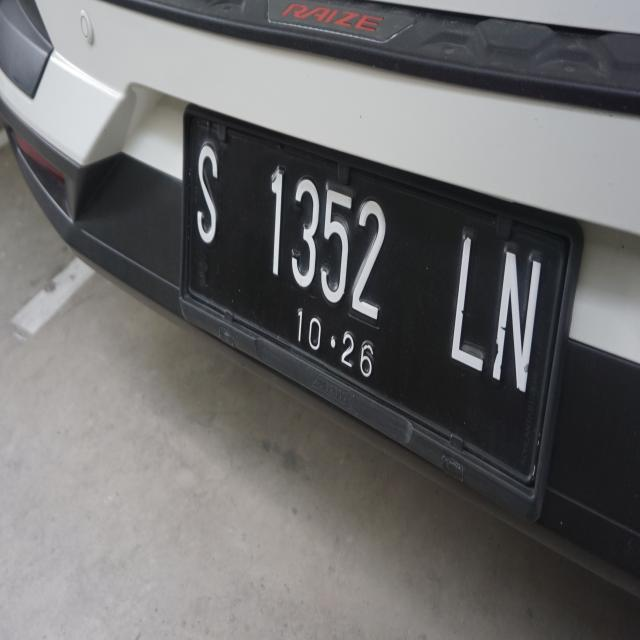1: (262, 160, 290, 286)
2: (349, 190, 393, 337)
3: (288, 172, 322, 294)
5: (320, 182, 352, 310)
L: (443, 221, 486, 392)
N: (484, 234, 544, 404)
S: (190, 132, 226, 260)
